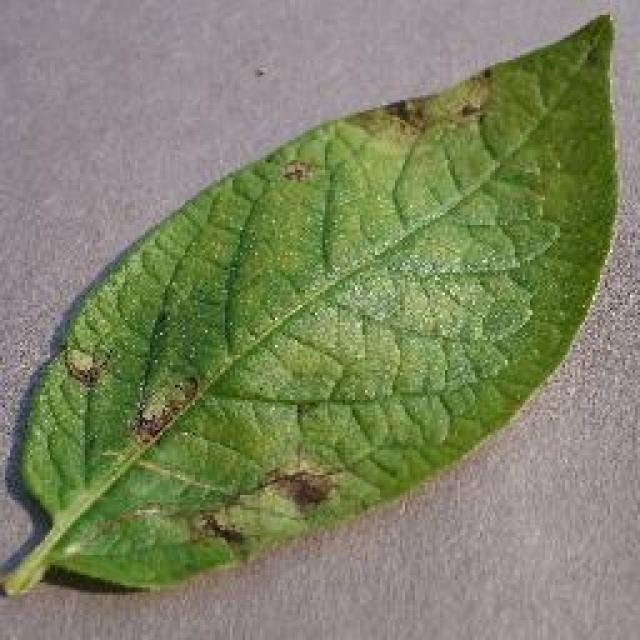Potato: (0, 10, 620, 598)
